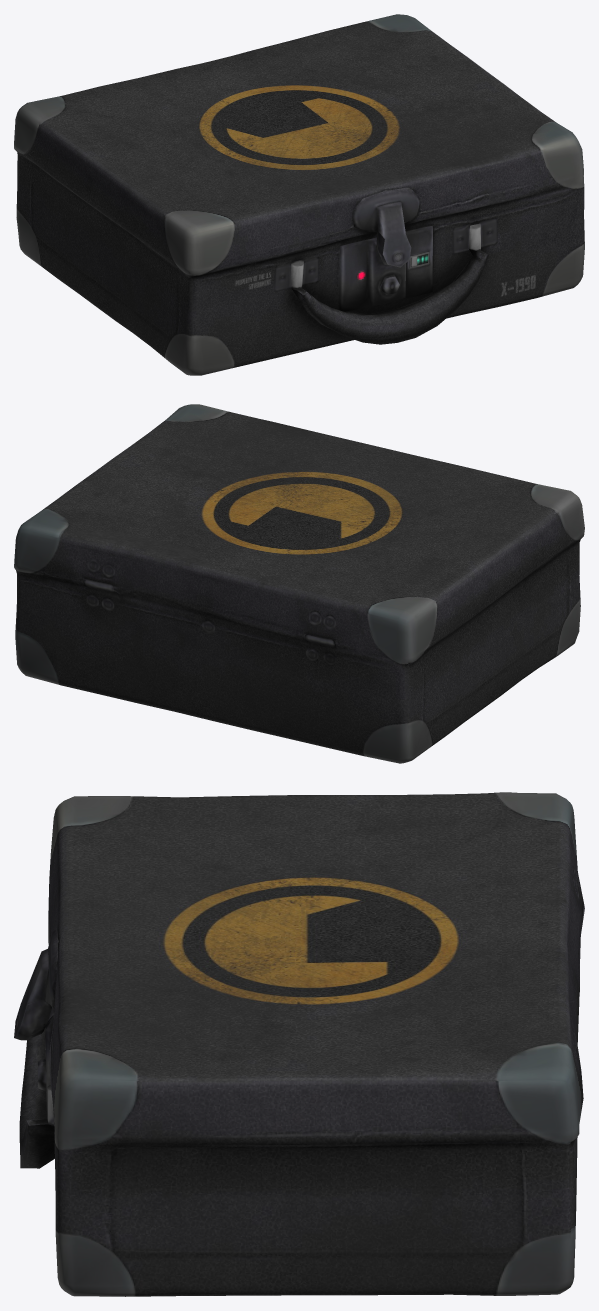
3 views of the same model, one above another, from view 1: azimuth 30°, elevation 25°; view 2: azimuth 150°, elevation 25°; view 3: azimuth 270°, elevation 25° (orthographic). The views are drawn at different scales.
Parts seen in each view (by area): view 1: g; view 2: g; view 3: g.
Part boxes in pixels (x1,y1,x2,y2): g: (14,14,584,375); g: (14,404,584,763); g: (14,792,584,1296).
Bounding box in the file's own units: 2 × 0.7387 × 1.66.
Materials: 1 (1 with a texture image).
